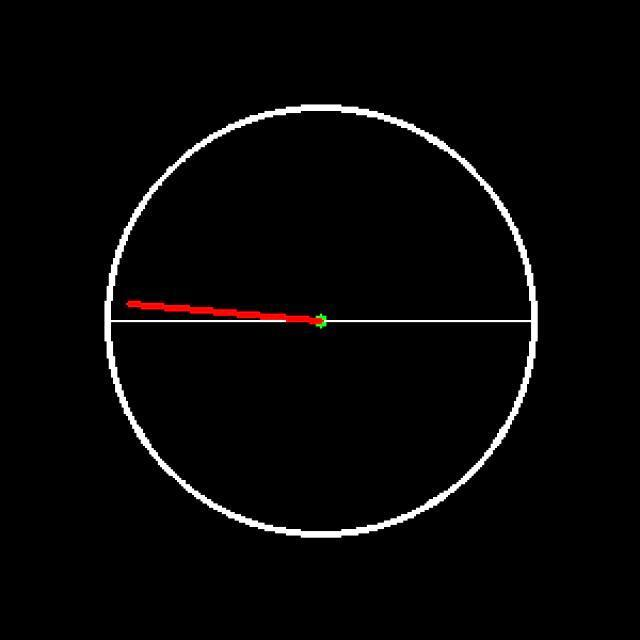Needle_Tip: (116, 276, 181, 339)
Needle_base: (292, 289, 350, 351)
